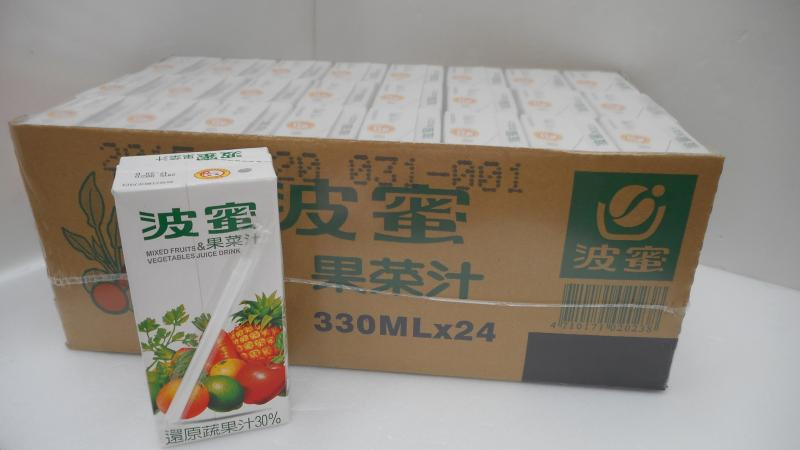vegetables juice: (103, 144, 301, 443)
